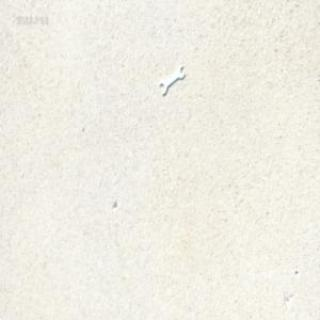Wrenchtrack_idkeyframe: (158, 63, 184, 95)
